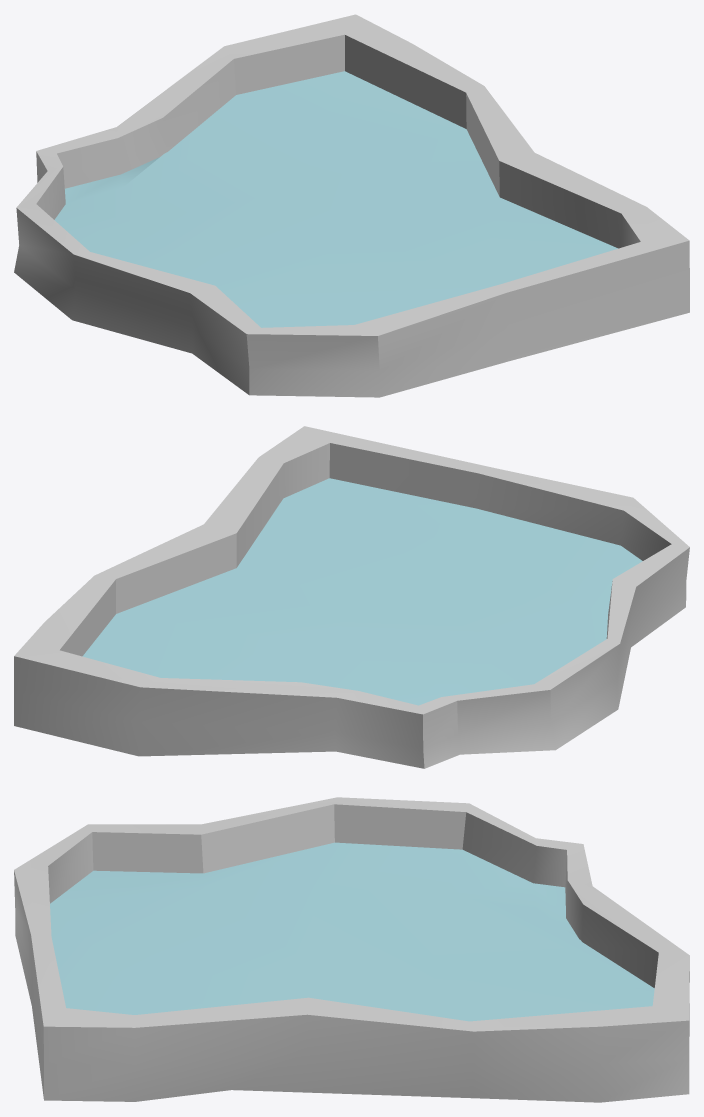
Rendered from lake.fbx.
3 views of the same model, one above another, from view 1: azimuth 30°, elevation 25°; view 2: azimuth 150°, elevation 25°; view 3: azimuth 270°, elevation 25° (orthographic). The views are drawn at different scales.
Parts seen in each view (by area): view 1: pCube7; view 2: pCube7; view 3: pCube7.
Part boxes in pixels (<box>): pCube7: <box>14,14,689,397</box>; pCube7: <box>14,426,689,768</box>; pCube7: <box>14,797,689,1102</box>.
Size of the model in its own units: 4.21 by 0.6264 by 5.07.
